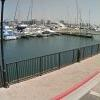Boat: (4, 17, 56, 37)
